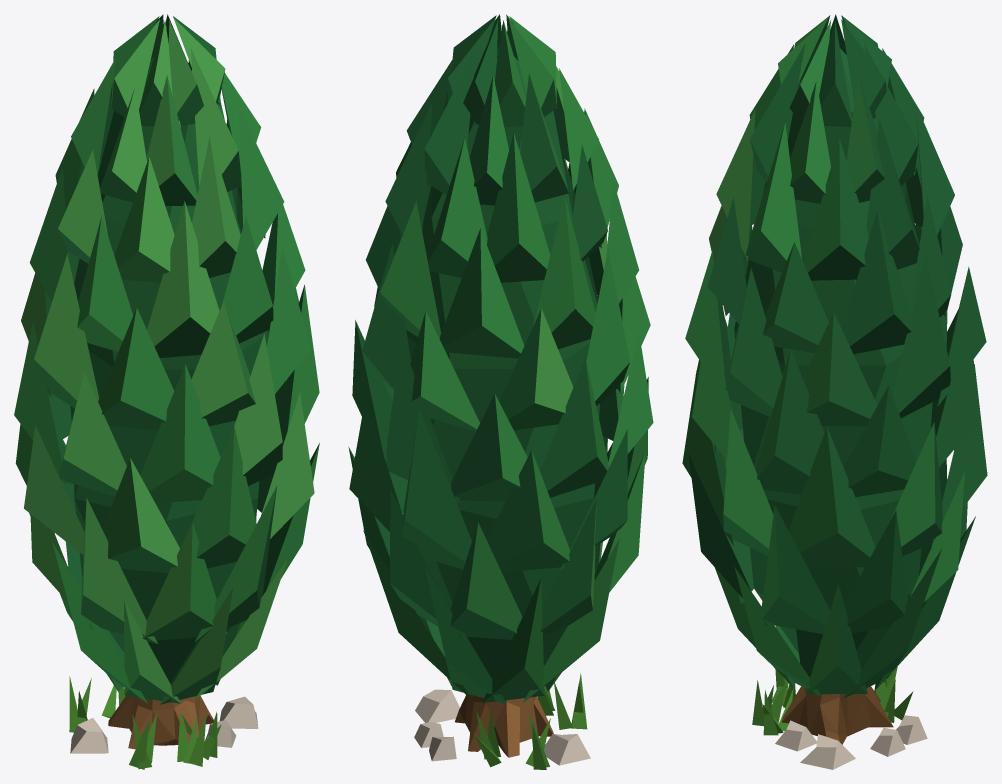
File: cypress_bloom.glb
The picture shows the model from 3 angles, left to right: view 1: azimuth 30°, elevation 25°; view 2: azimuth 150°, elevation 25°; view 3: azimuth 270°, elevation 25°; orthographic projection.
Parts seen in each view (by area): view 1: cypress_bloom; view 2: cypress_bloom; view 3: cypress_bloom.
Part boxes in pixels (x1,y1,x2,y2): cypress_bloom: [14, 14, 319, 769]; cypress_bloom: [348, 14, 653, 769]; cypress_bloom: [682, 14, 987, 769].
Size of the model in its own units: 2.61 by 6.71 by 2.6.
